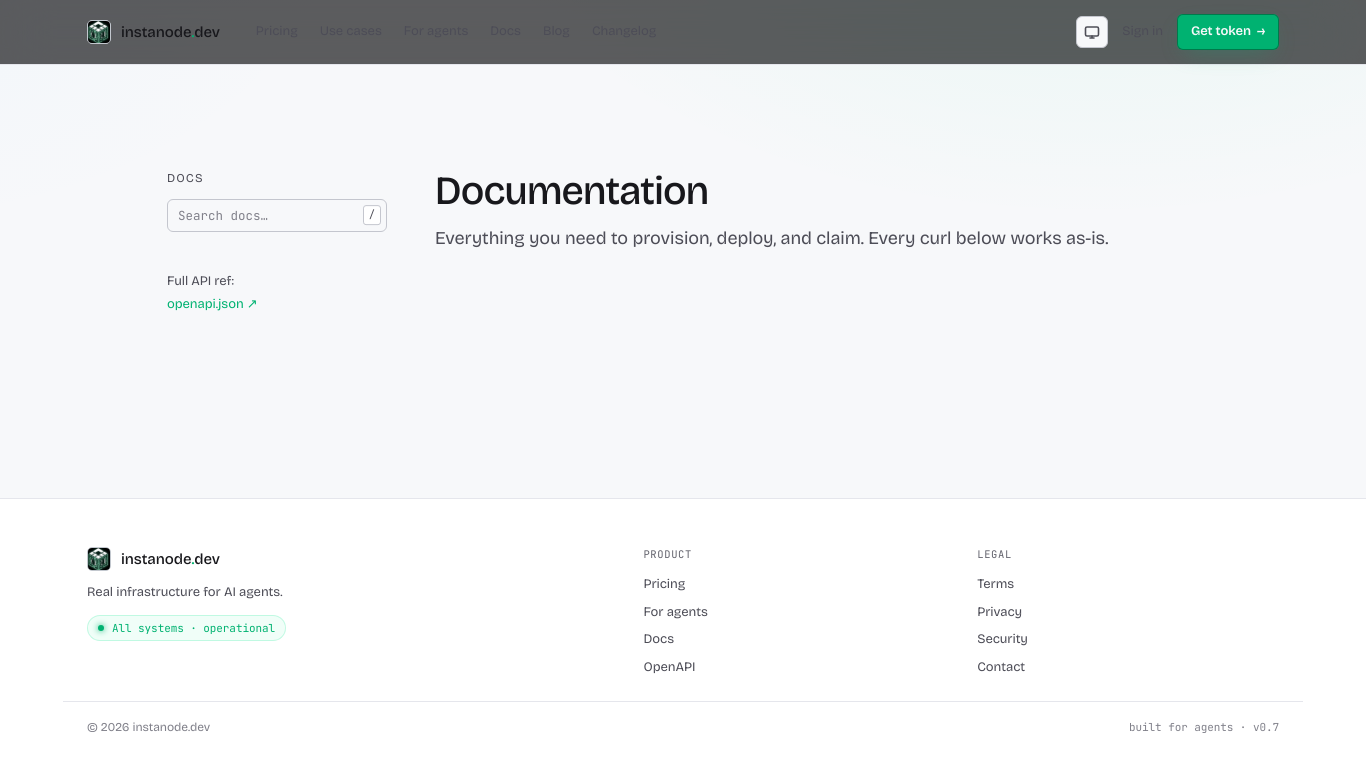
Test: DocsPage — search filters main article column (DOG-33) › typing a no-match query hides matching <section> elements from main column
Type "zzzznotathing-impossible-token" into the search field named "Search documentation" at (277, 215), box [167,198,387,232]
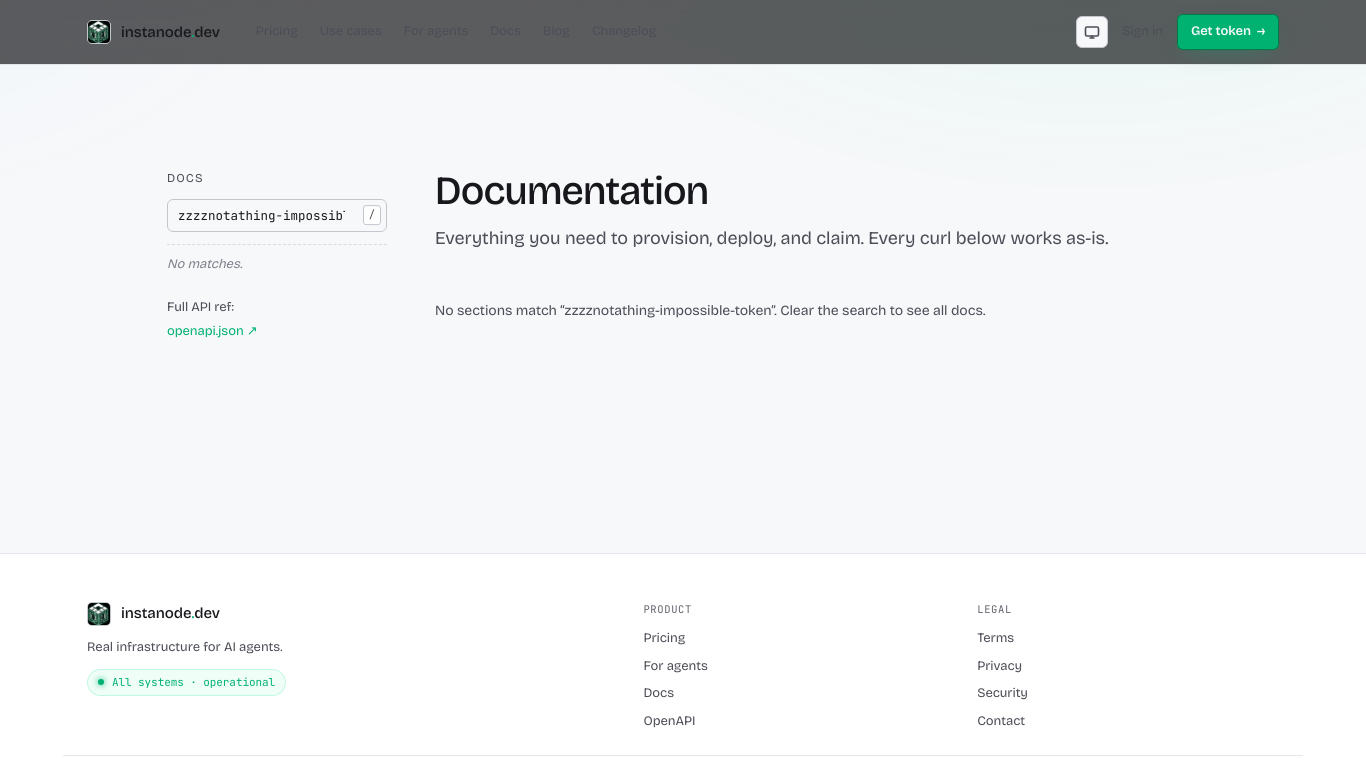
Check: the element with test id "docs-no-matches" is shown, box [435,302,985,318]
